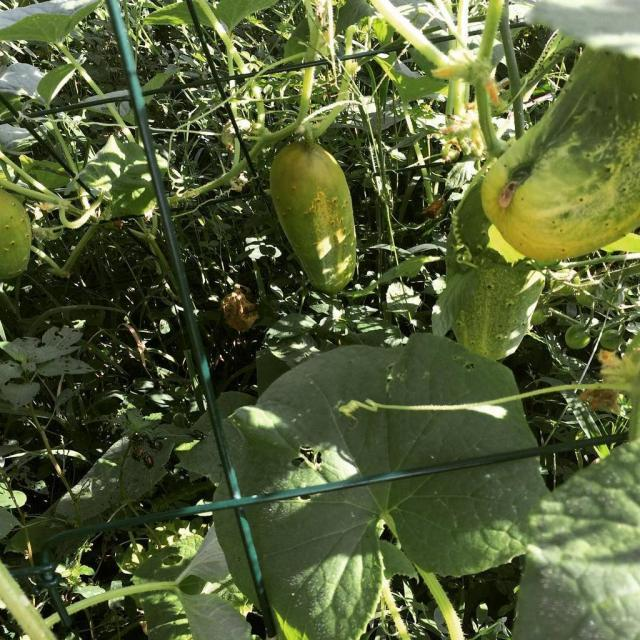Cucumber: (480, 44, 628, 269), (443, 175, 546, 361), (267, 142, 357, 297), (0, 192, 32, 280)
